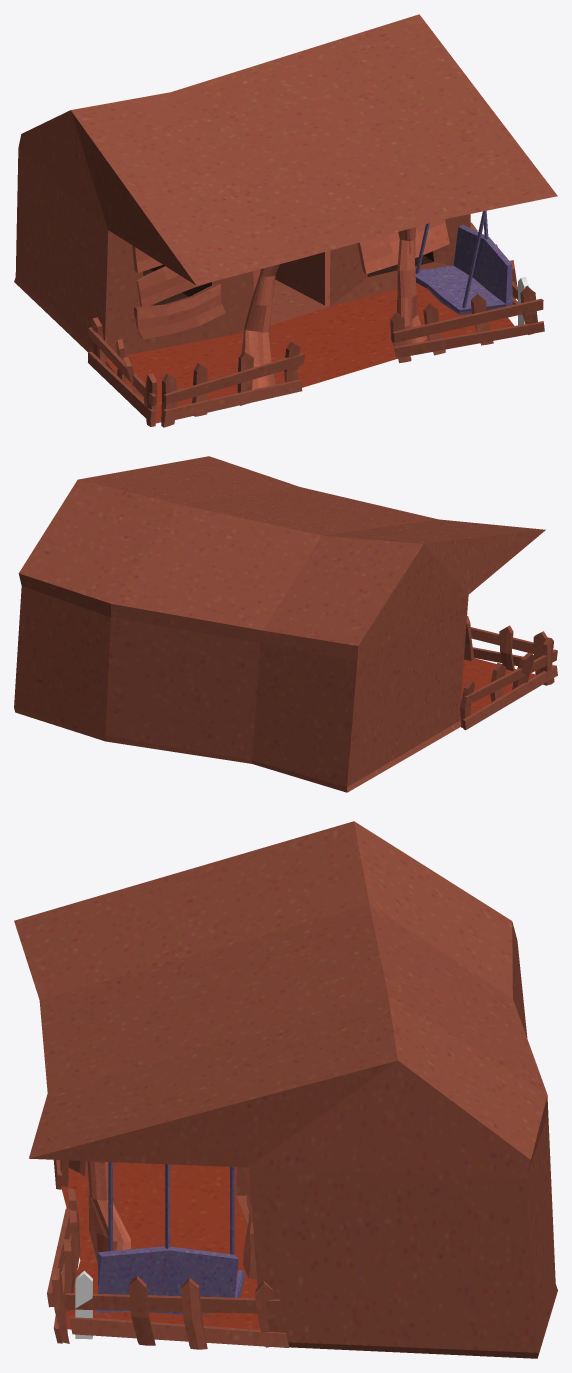
The model's file is cabinOutside.FBX.
The picture shows the model from 3 angles, top to bottom: view 1: azimuth 30°, elevation 25°; view 2: azimuth 150°, elevation 25°; view 3: azimuth 270°, elevation 25°; orthographic projection. The views are drawn at different scales.
Parts seen in each view (by area): view 1: Box11, Box02; view 2: Box11; view 3: Box11, Box02, Box15.
Boxes of the visible parts, box(x1,y1,x2,y2) form: Box11: box(14, 14, 557, 427); Box02: box(415, 210, 512, 314); Box11: box(14, 456, 557, 792); Box11: box(14, 821, 557, 1358); Box02: box(96, 1162, 244, 1314); Box15: box(75, 1270, 92, 1339).
Size of the model in its own units: 163 by 142 by 85.31.
Materials: 2 (2 with a texture image).
